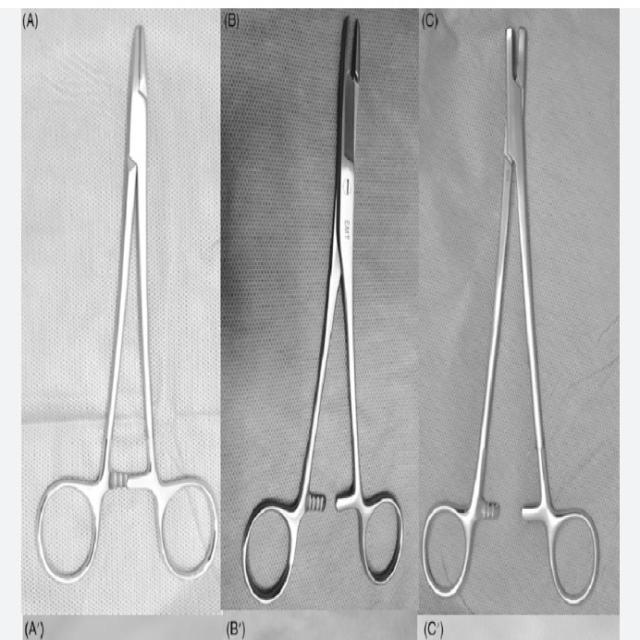Needle Holder: (418, 16, 603, 606), (32, 21, 220, 582), (239, 12, 402, 605)
